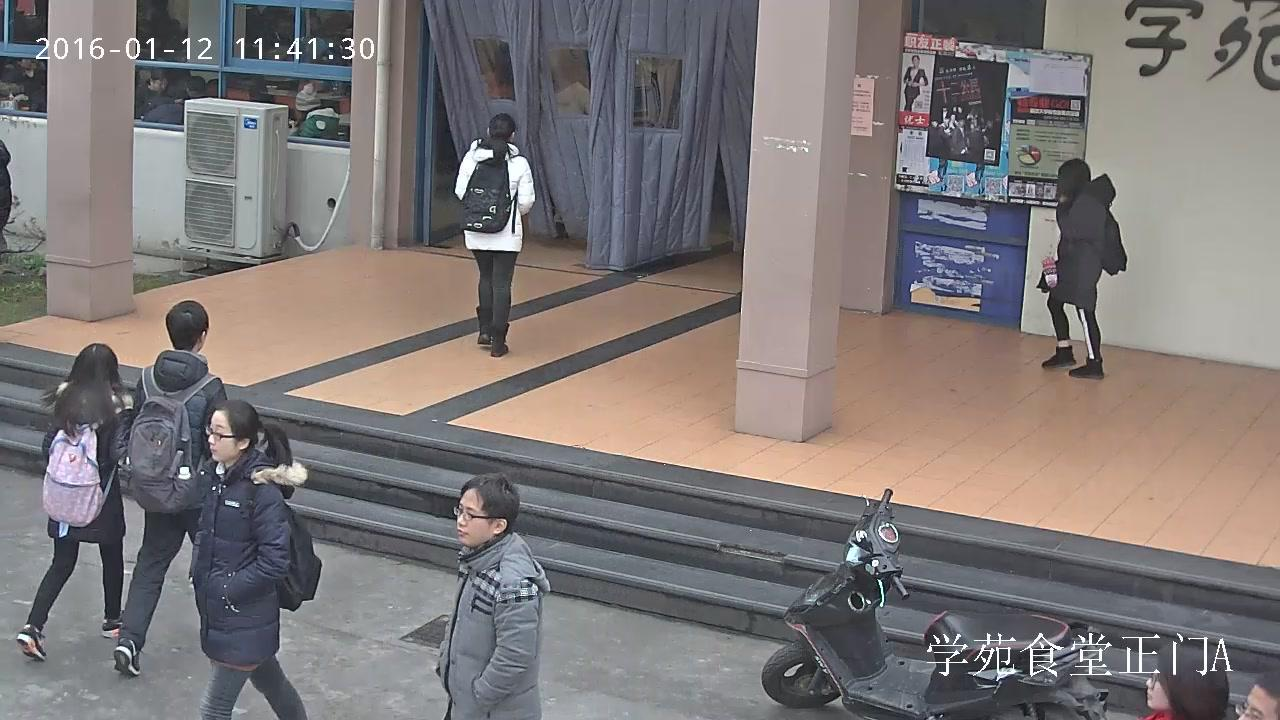person: (114, 300, 230, 677), (188, 399, 322, 720), (16, 342, 137, 661), (435, 471, 551, 720), (453, 112, 535, 359), (1035, 158, 1126, 379), (295, 82, 346, 140), (134, 67, 176, 118), (904, 55, 928, 112)
